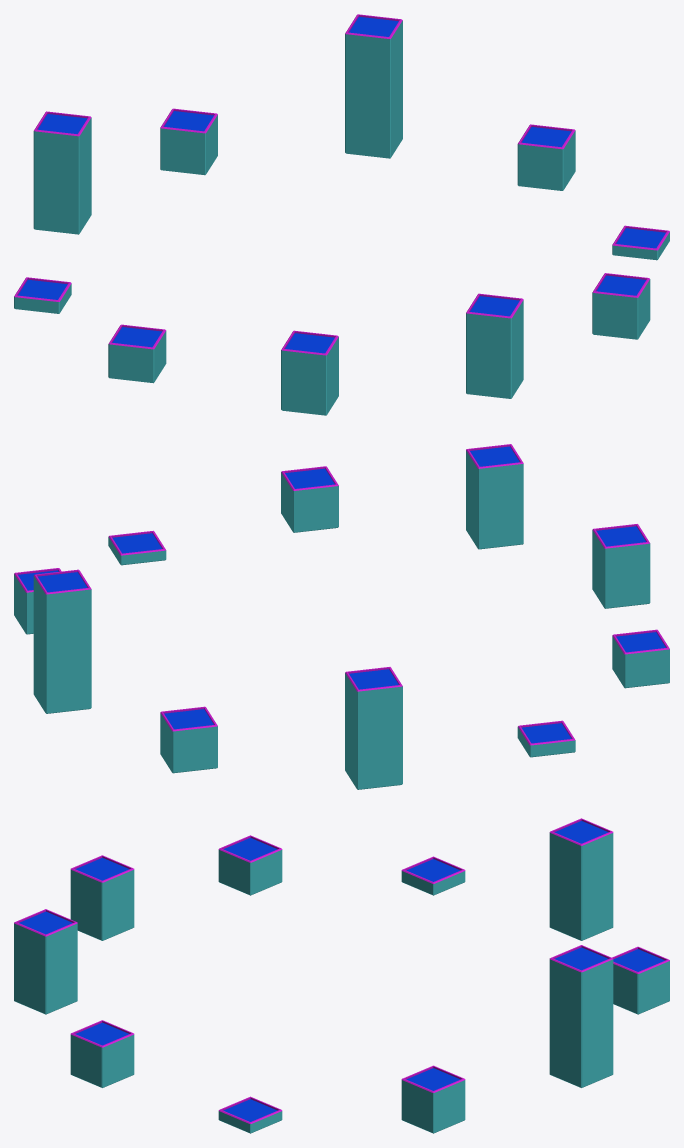
Rendered from 10 stand.fbx.
3 views of the same model, one above another, from view 1: azimuth 30°, elevation 25°; view 2: azimuth 150°, elevation 25°; view 3: azimuth 270°, elevation 25° (orthographic). The views are drawn at different scales.
Visible parts, largest first — view 1: polySurface789, polySurface791, polySurface785, polySurface794, polySurface786, polySurface788, polySurface790, polySurface793, polySurface792, polySurface787; view 2: polySurface789, polySurface791, polySurface785, polySurface794, polySurface786, polySurface790, polySurface793, polySurface792, polySurface787, polySurface788; view 3: polySurface789, polySurface791, polySurface785, polySurface794, polySurface788, polySurface786, polySurface790, polySurface793, polySurface792, polySurface787.
Part boxes in pixels (<box>): polySurface789: <box>345,14,402,158</box>; polySurface791: <box>33,111,91,234</box>; polySurface785: <box>466,293,523,398</box>; polySurface794: <box>281,330,338,415</box>; polySurface786: <box>592,273,650,339</box>; polySurface788: <box>517,124,575,190</box>; polySurface790: <box>160,108,217,175</box>; polySurface793: <box>108,324,166,383</box>; polySurface792: <box>14,277,71,313</box>; polySurface787: <box>612,225,669,260</box>; polySurface789: <box>33,569,91,713</box>; polySurface791: <box>345,667,402,789</box>; polySurface785: <box>466,444,523,549</box>; polySurface794: <box>592,524,650,608</box>; polySurface786: <box>281,466,338,532</box>; polySurface790: <box>160,706,217,773</box>; polySurface793: <box>612,629,669,688</box>; polySurface792: <box>517,720,575,757</box>; polySurface787: <box>108,530,166,565</box>; polySurface788: <box>14,568,61,634</box>; polySurface789: <box>549,945,613,1087</box>; polySurface791: <box>549,818,613,940</box>; polySurface785: <box>14,909,77,1014</box>; polySurface794: <box>70,855,134,940</box>; polySurface788: <box>401,1065,465,1133</box>; polySurface786: <box>70,1020,134,1087</box>; polySurface790: <box>612,946,669,1014</box>; polySurface793: <box>218,835,282,895</box>; polySurface792: <box>401,856,465,895</box>; polySurface787: <box>218,1096,282,1133</box>.
Bounding box in the file's own units: 76.02 × 15.64 × 79.53.
